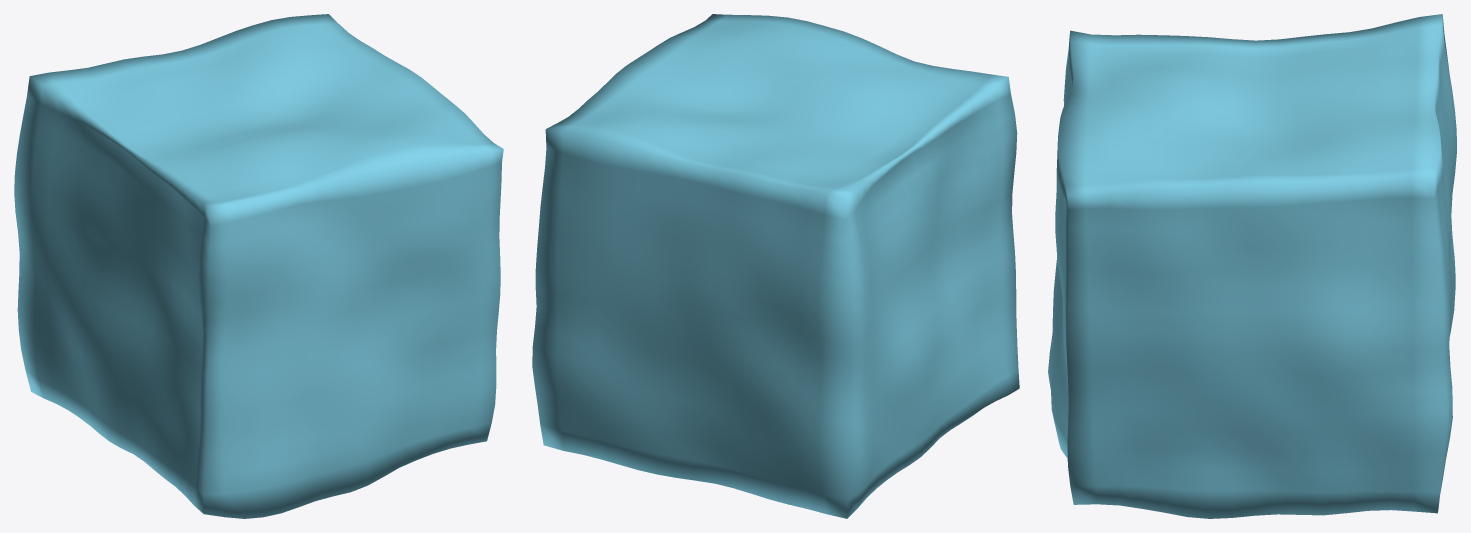
File: buZ.fbx
3 views of the same model, side by side, from view 1: azimuth 30°, elevation 25°; view 2: azimuth 150°, elevation 25°; view 3: azimuth 270°, elevation 25° (orthographic). The views are drawn at different scales.
Visible parts, largest first — view 1: Cube.001; view 2: Cube.001; view 3: Cube.001.
Part boxes in pixels (x1,y1,x2,y2): Cube.001: (14,14,503,518); Cube.001: (532,14,1019,518); Cube.001: (1048,14,1456,518).
Size of the model in its own units: 220 by 217 by 222.
